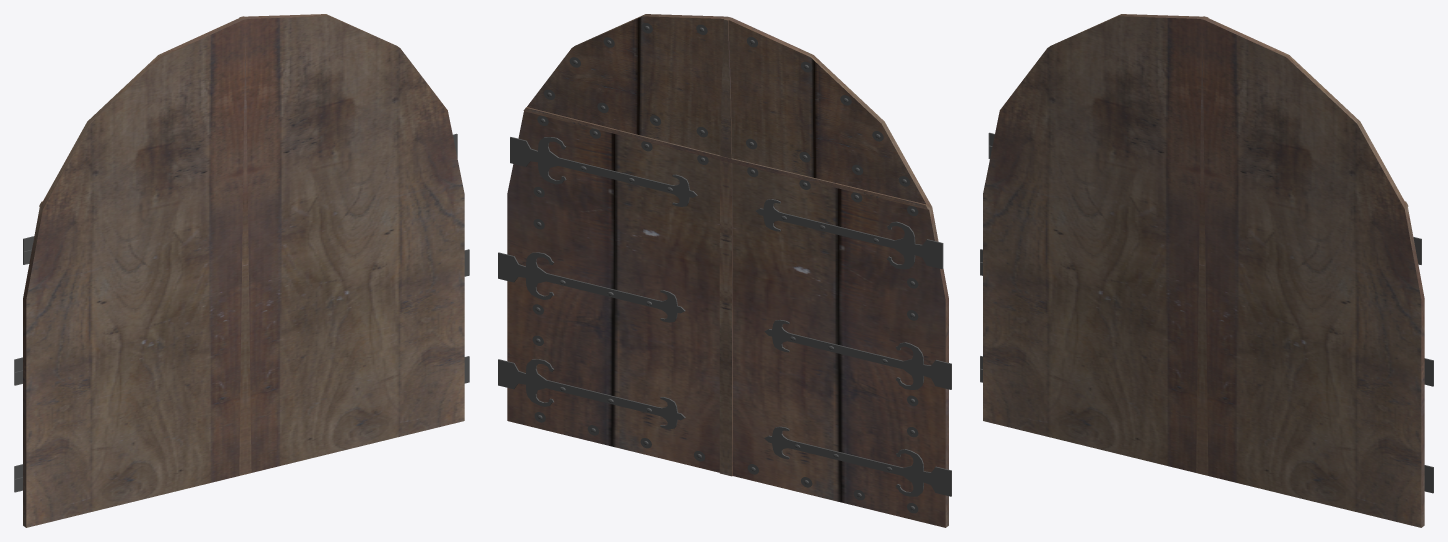
Rendered from porta.fbx.
The picture shows the model from 3 angles, left to right: view 1: azimuth 30°, elevation 25°; view 2: azimuth 150°, elevation 25°; view 3: azimuth 330°, elevation 25°; orthographic projection.
Visible parts, largest first — view 1: Porta entrata; view 2: Porta entrata; view 3: Porta entrata.
Part boxes in pixels (x1,y1,x2,y2): Porta entrata: (14,14,469,527); Porta entrata: (498,14,951,527); Porta entrata: (980,14,1433,527).
Size of the model in its own units: 137 by 131 by 2.83.
2 materials, 1 textured.
